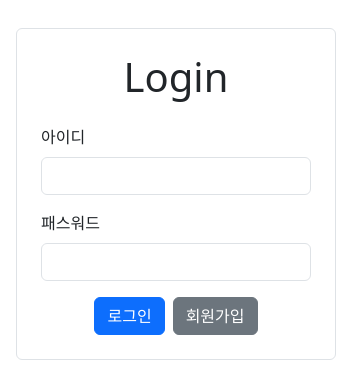
LoginForm Component › should show validation error when password is empty
Type "testuser" into the field labelled "아이디".
click(176, 176); type("testuser")  # box [41, 157, 311, 195]
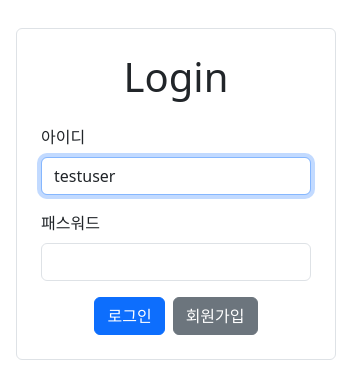
Click the button "로그인".
click(130, 316)  # box [94, 297, 165, 335]
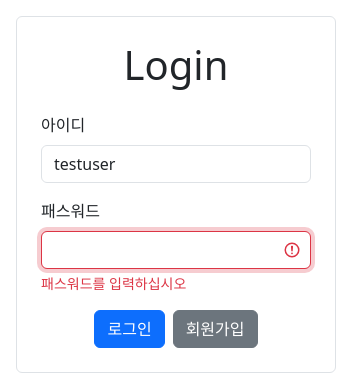
Now the text "패스워드를 입력하십시오" is shown, box [41, 274, 186, 292]
